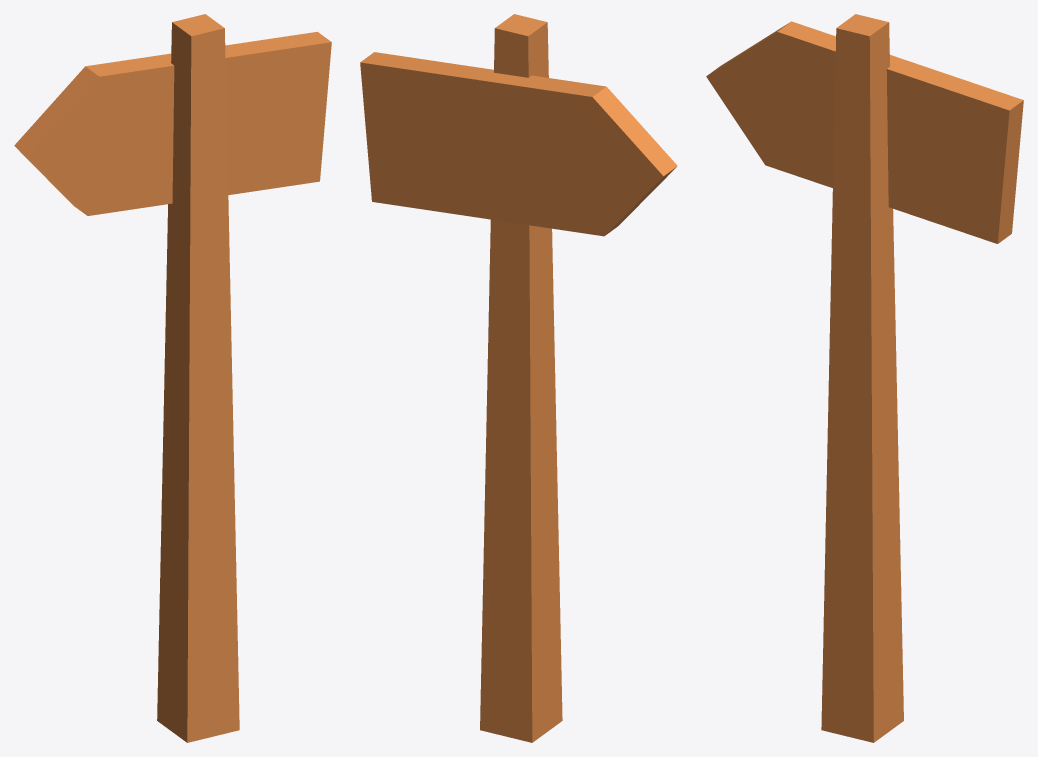
File: Signpost Single.glb
3 renders of one model, left to right at view 1: azimuth 30°, elevation 25°; view 2: azimuth 150°, elevation 25°; view 3: azimuth 330°, elevation 25°, orthographic.
Parts seen in each view (by area): view 1: signpostSingle; view 2: signpostSingle; view 3: signpostSingle.
Part boxes in pixels (<box>): signpostSingle: <box>14,14,331,742</box>; signpostSingle: <box>360,14,677,742</box>; signpostSingle: <box>706,14,1023,742</box>.
Size of the model in its own units: 0.2086 by 0.4601 by 0.043.
